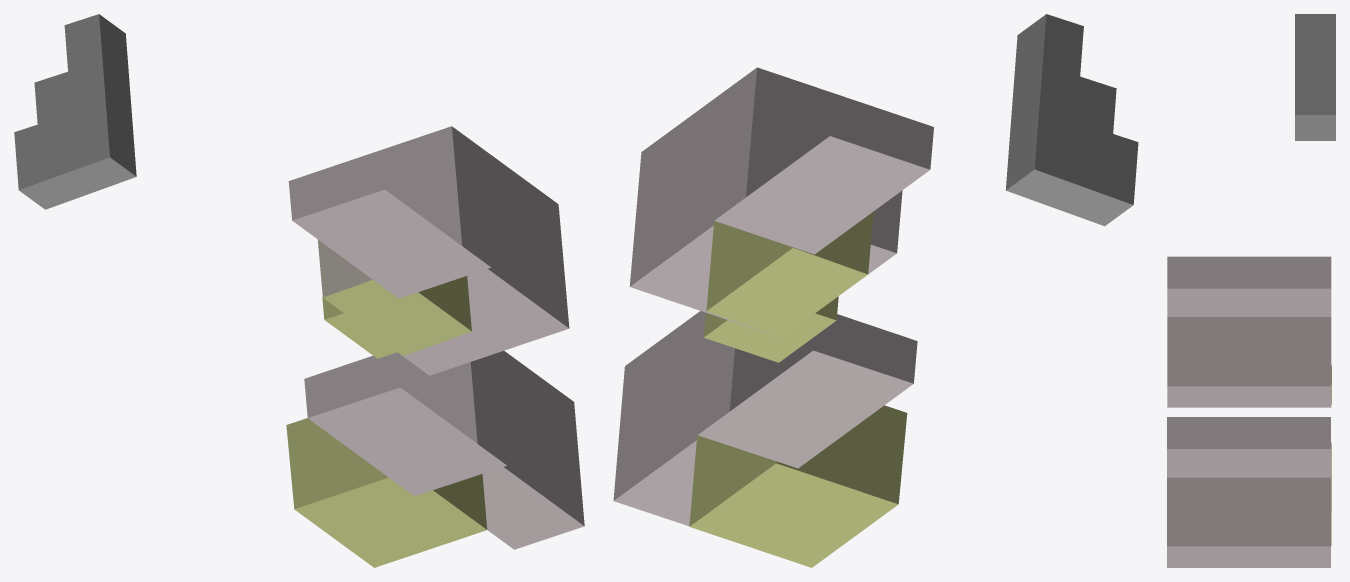
3 views of the same model, side by side, from view 1: azimuth 30°, elevation 25°; view 2: azimuth 150°, elevation 25°; view 3: azimuth 270°, elevation 25° (orthographic). The views are drawn at different scales.
Visible parts, largest first — view 1: 0_2_3_3_3_1_0_3_1; view 2: 0_2_3_3_3_1_0_3_1; view 3: 0_2_3_3_3_1_0_3_1.
Part boxes in pixels (x1,y1,x2,y2): 0_2_3_3_3_1_0_3_1: (14,14,584,567); 0_2_3_3_3_1_0_3_1: (613,14,1138,567); 0_2_3_3_3_1_0_3_1: (1167,14,1335,567).
Bounding box in the file's own units: 29.89 × 33.51 × 12.35.
